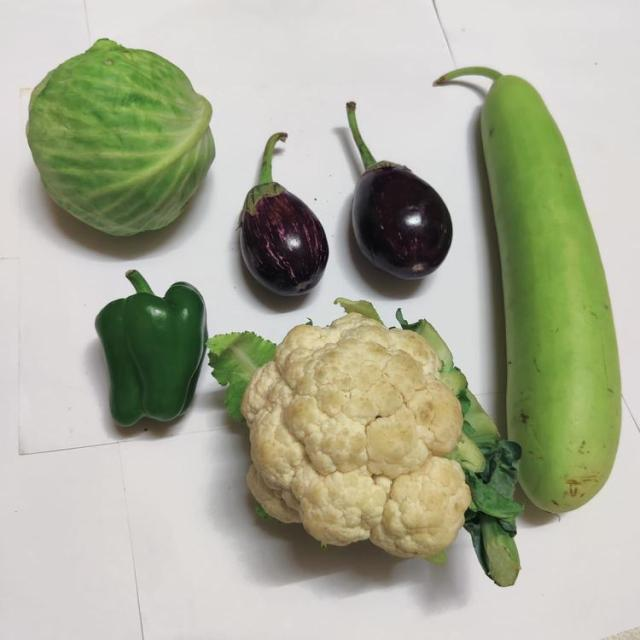Organik: (211, 312, 512, 586), (480, 74, 616, 496), (25, 37, 216, 238), (345, 102, 453, 278), (98, 272, 206, 435), (241, 132, 330, 301)
